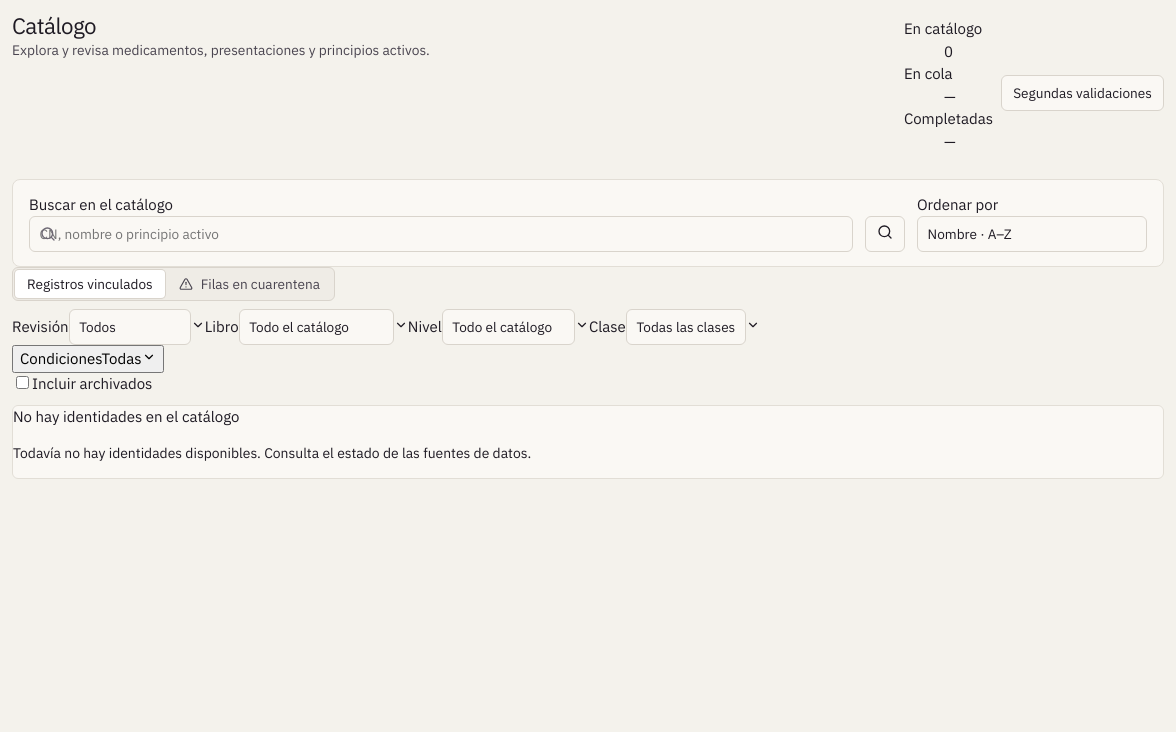
Test: explica el vacío provocado por filtros y permite recuperar el catálogo completo
Expected: the text "No hay identidades en el catálogo" is shown, [13, 407, 239, 426]
Select "Presentaciones" in the dropdown named "Nivel farmacéutico" at [508, 327], box [442, 309, 575, 345]
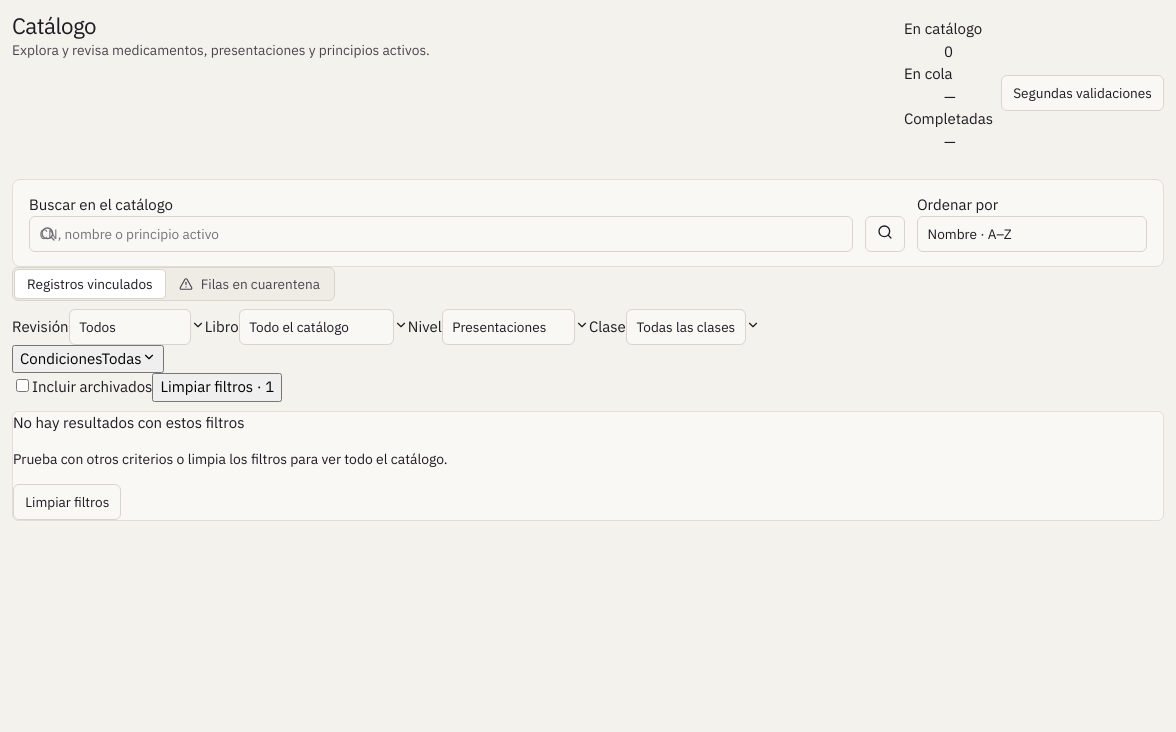
Now the text "No hay resultados con estos filtros" is shown, box [13, 413, 244, 432]
Click the button "Limpiar filtros".
click(67, 502)  # box [13, 484, 122, 520]
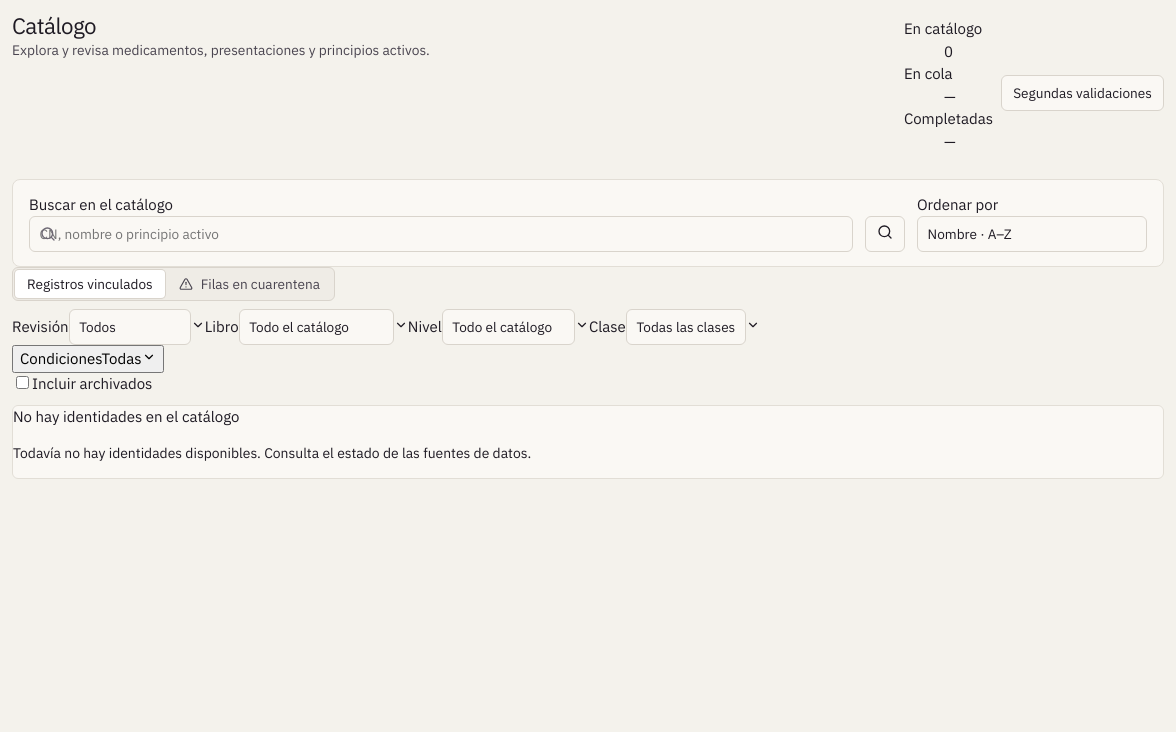
Now the text "No hay identidades en el catálogo" is shown, box [13, 407, 239, 426]
